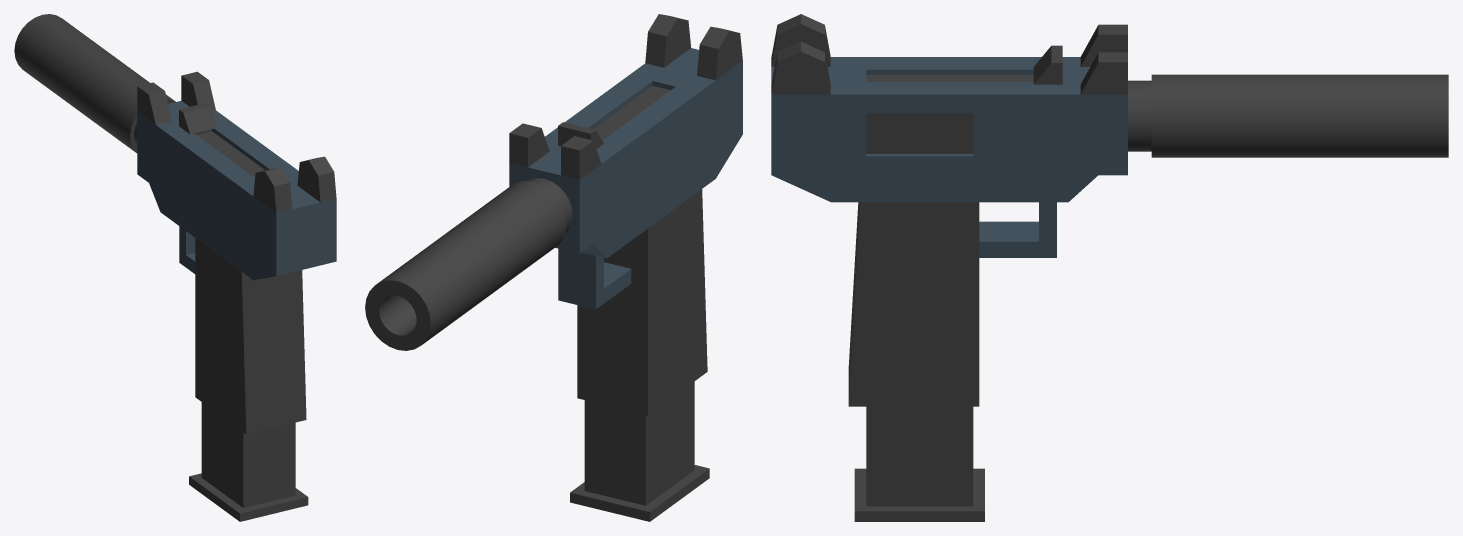
The model's file is uziSilencer.dae.
3 renders of one model, left to right at view 1: azimuth 30°, elevation 25°; view 2: azimuth 150°, elevation 25°; view 3: azimuth 270°, elevation 25°, orthographic. The views are drawn at different scales.
Visible parts, largest first — view 1: Group (×4); view 2: Group (×4); view 3: Group (×4).
Part boxes in pixels (x1=…): Group (×4): x1=14, y1=14, x2=336, y2=521; Group (×4): x1=365, y1=14, x2=742, y2=521; Group (×4): x1=771, y1=14, x2=1448, y2=521.
Size of the model in its own units: 0.0651 by 0.333 by 0.4368.
